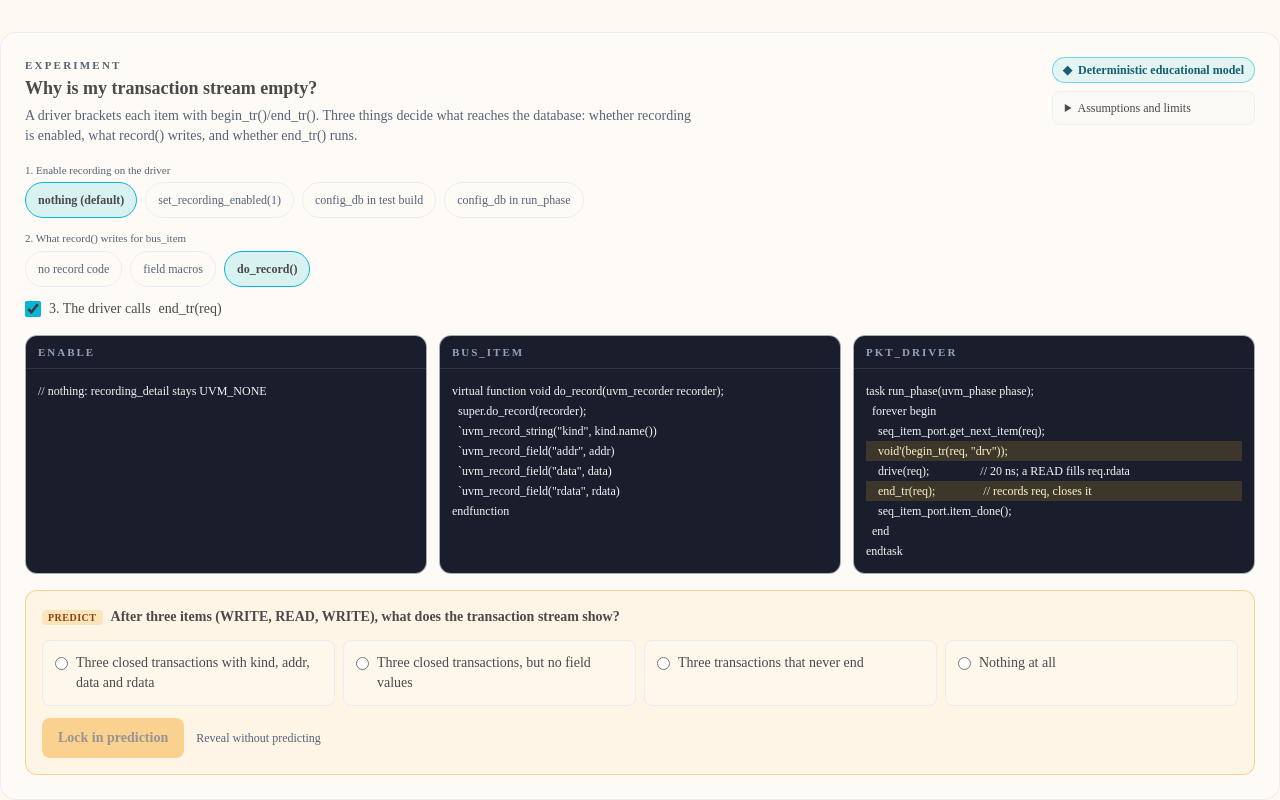
Test case: TransactionRecordingVisualizer › config_db in run_phase is too late
The width and height of the screenshot is (1280, 800).
Click the radio button labelled "config_db in run_phase" at (514, 200), box [444,182,584,218]
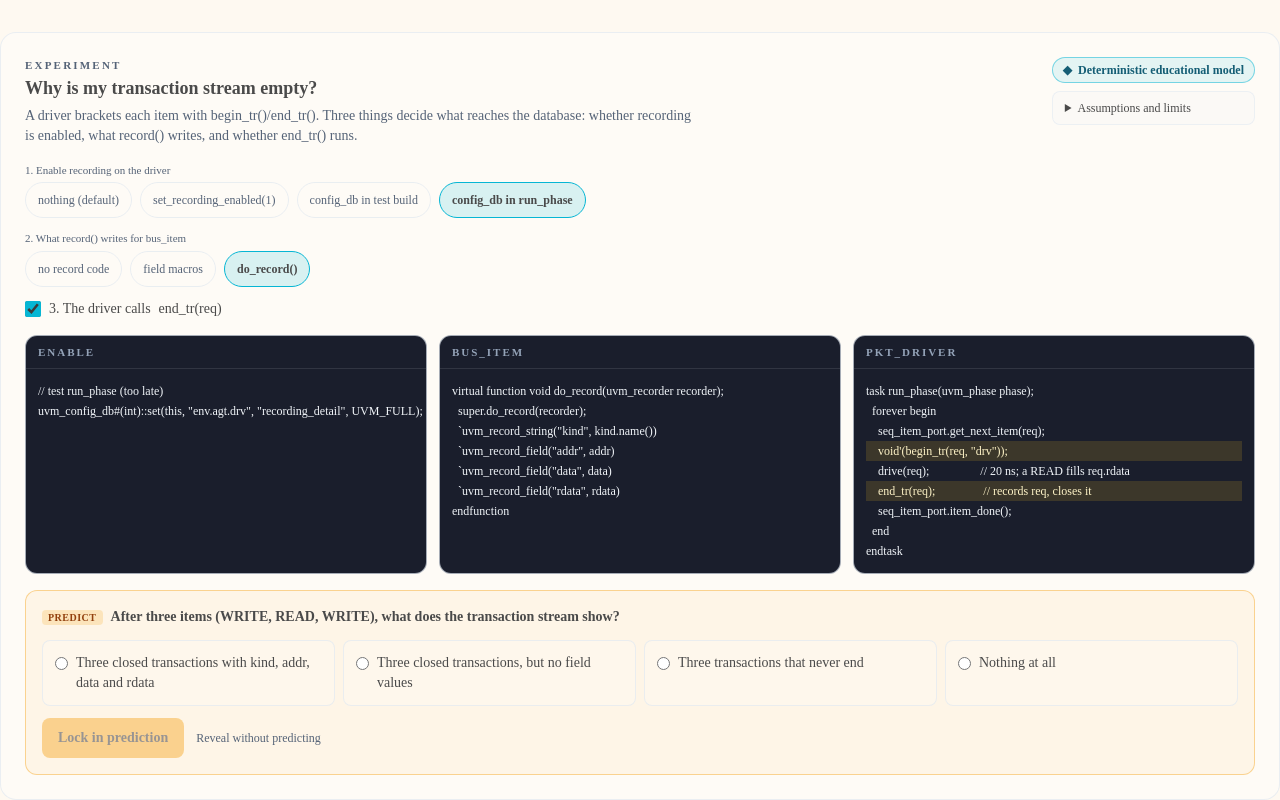
Click the radio button labelled "Nothing at all" at (964, 664), box [958,657,971,670]
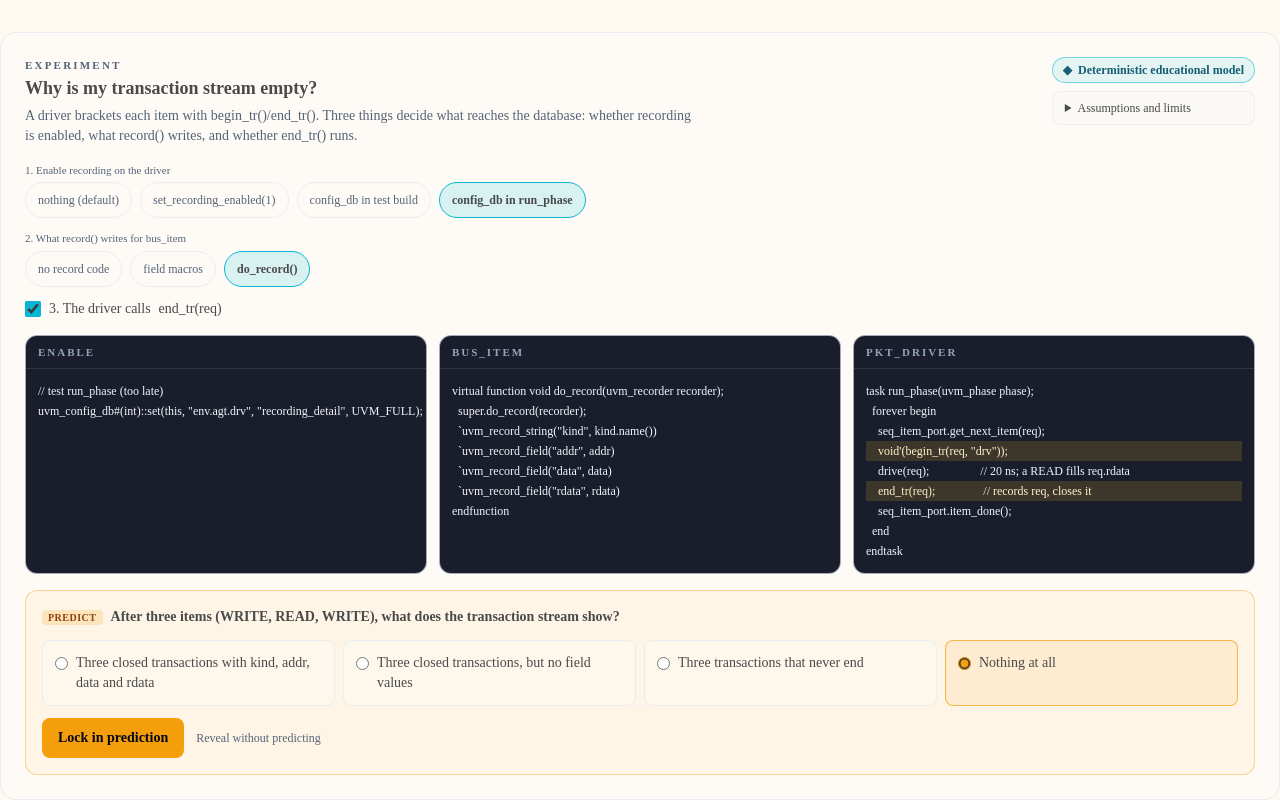
Click the button "Lock in prediction" at (113, 738), box [42,718,184,758]
(page scrolled)
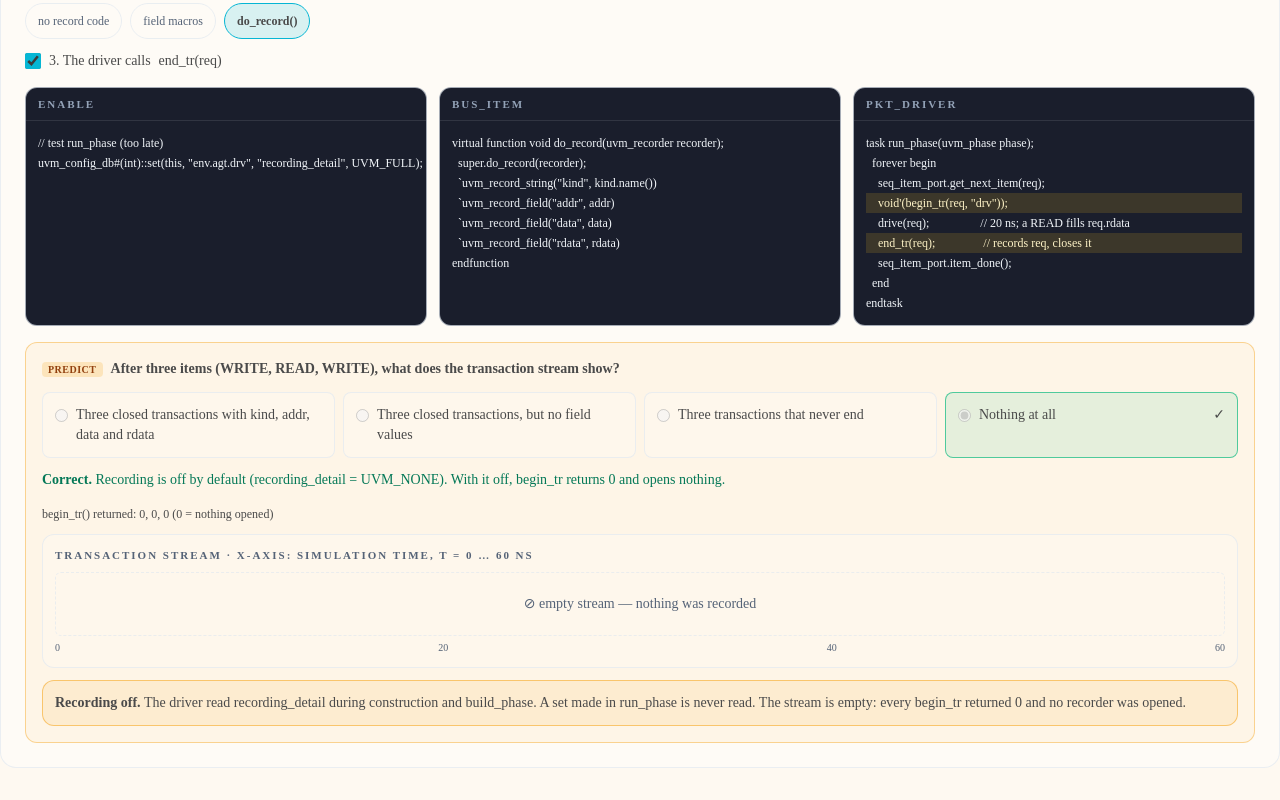
Check: the text "Correct." is shown, box [42,472,95,487]
Check: the text "A set made in run_phase is never read" is shown, box [144,694,756,710]
